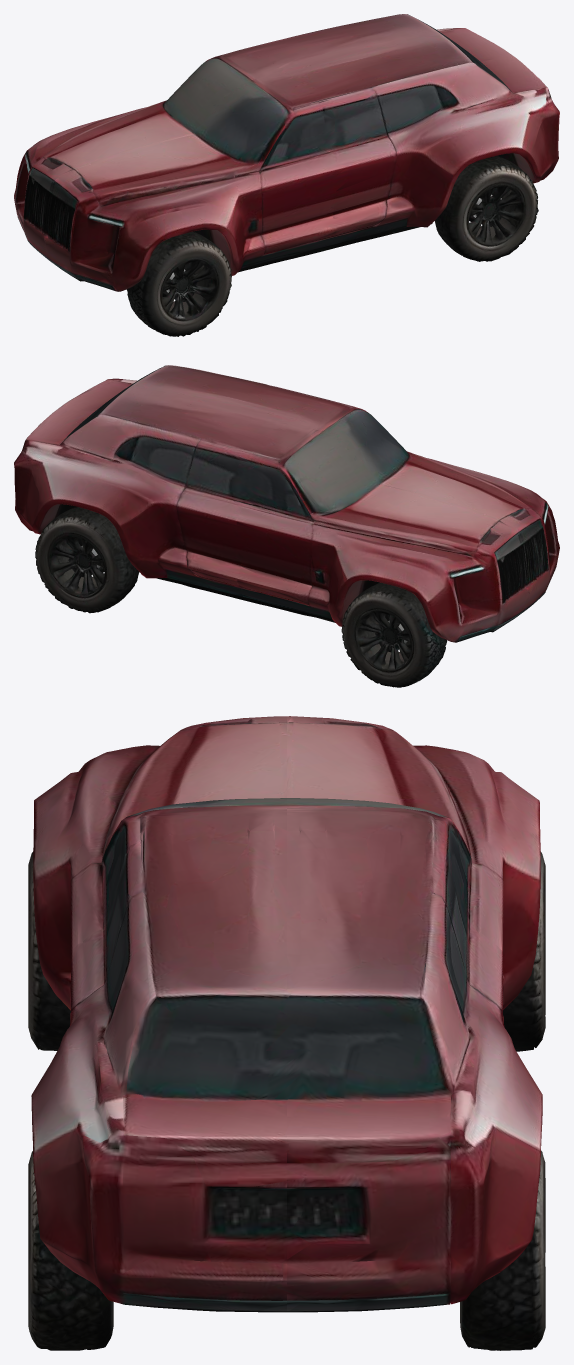
File: TestSuv.glb
3 renders of one model, top to bottom at view 1: azimuth 30°, elevation 25°; view 2: azimuth 150°, elevation 25°; view 3: azimuth 270°, elevation 25°, orthographic. The views are drawn at different scales.
Parts seen in each view (by area): view 1: Test-Suv_00, Test-Suv_10, Test-Suv_01, Test-Suv_11; view 2: Test-Suv_01, Test-Suv_11, Test-Suv_00, Test-Suv_10; view 3: Test-Suv_11, Test-Suv_10, Test-Suv_00, Test-Suv_01.
Part boxes in pixels (x1,y1,x2,y2): Test-Suv_00: (45, 70, 336, 336); Test-Suv_10: (283, 35, 559, 261); Test-Suv_01: (14, 48, 282, 262); Test-Suv_11: (247, 14, 512, 70); Test-Suv_01: (236, 421, 528, 687); Test-Suv_11: (14, 386, 290, 613); Test-Suv_00: (291, 399, 559, 612); Test-Suv_10: (61, 365, 326, 421); Test-Suv_11: (287, 830, 545, 1350); Test-Suv_10: (28, 830, 286, 1350); Test-Suv_00: (28, 716, 286, 1050); Test-Suv_01: (287, 716, 545, 1051).
Bounding box in the file's own units: 16.32 × 6 × 7.68.
1 material, 1 textured.
